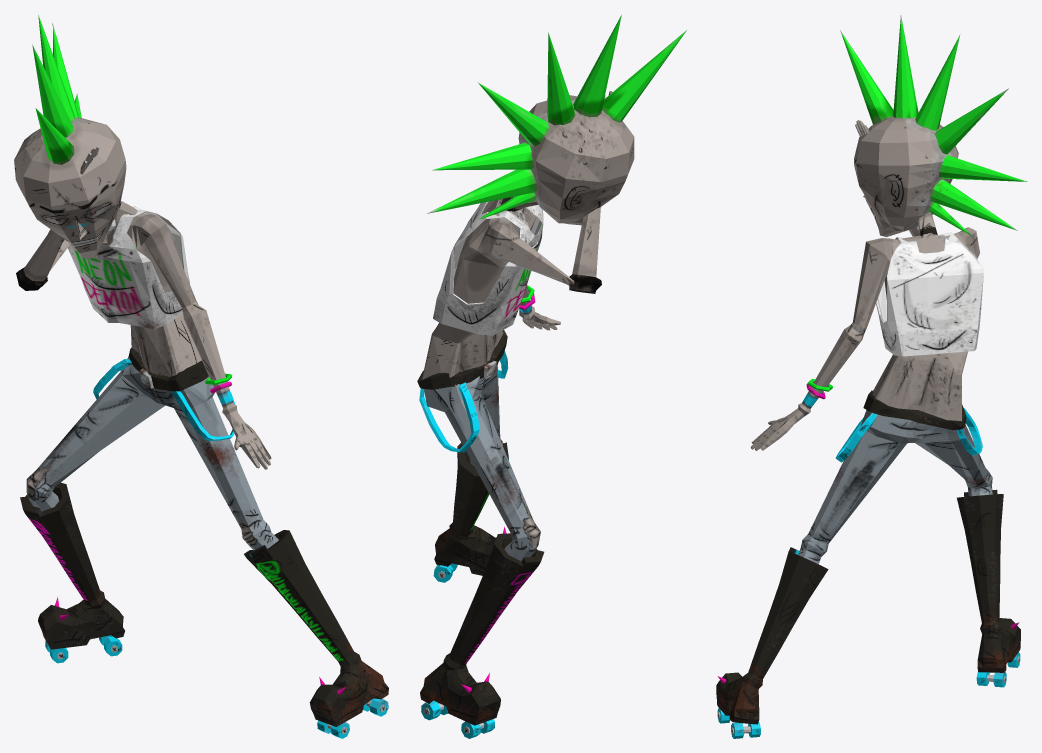
File: punkAnimation_000074.obj
The picture shows the model from 3 angles, left to right: view 1: azimuth 30°, elevation 25°; view 2: azimuth 150°, elevation 25°; view 3: azimuth 270°, elevation 25°; orthographic projection. The views are drawn at different scales.
Parts seen in each view (by area): view 1: Cube.004_Cube.003; view 2: Cube.004_Cube.003; view 3: Cube.004_Cube.003.
Boxes of the visible parts, x1,y1,x2,y2 form: Cube.004_Cube.003: (14, 15, 388, 738); Cube.004_Cube.003: (417, 15, 686, 738); Cube.004_Cube.003: (716, 15, 1027, 738).
Bounding box in the file's own units: 3.08 × 6.72 × 3.08.
